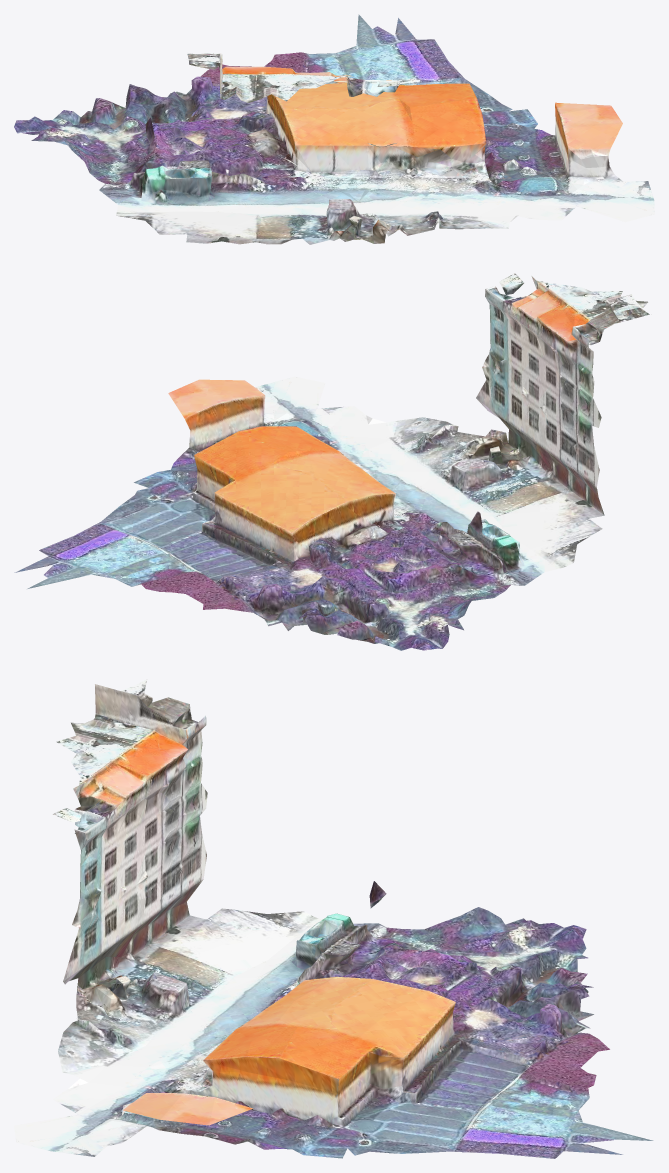
Rendered from Tile_+011_+019_L19_000000.glb.
3 views of the same model, one above another, from view 1: azimuth 30°, elevation 25°; view 2: azimuth 150°, elevation 25°; view 3: azimuth 270°, elevation 25° (orthographic). The views are drawn at different scales.
Visible parts, largest first — view 1: rtc; view 2: rtc; view 3: rtc.
Boxes of the visible parts, <box> form: rtc: <box>14,14,654,244</box>; rtc: <box>14,273,649,650</box>; rtc: <box>14,679,653,1158</box>.
Bounding box in the file's own units: 59.3 × 29.06 × 64.63.
Materials: 1 (1 with a texture image).
